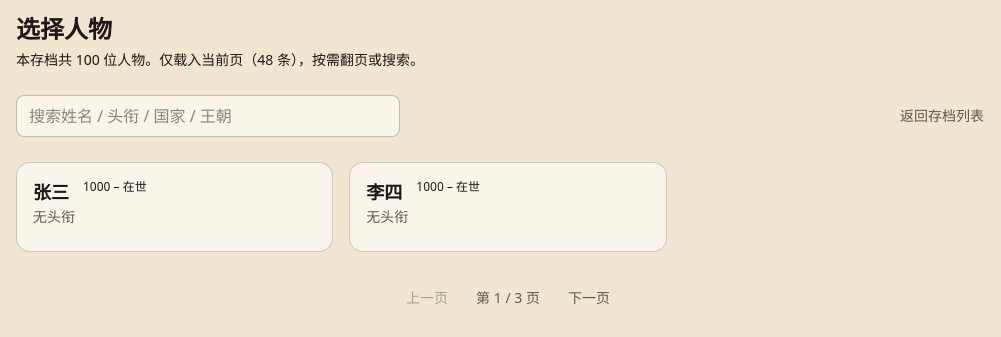
真实存档选择页（按需分页，不存全量） › 首屏仅加载一页，并显示总数与翻页
The width and height of the screenshot is (1001, 337).
Expected: the heading "张三" is shown, 33,179 -> 75,207
Expected: the text "本存档共 100 位人物。仅载入当前页（48 条），按需翻页或搜索。" is shown, 16,50 -> 424,69
Click the button "下一页".
click(589, 298)  # box 552,276 -> 626,320
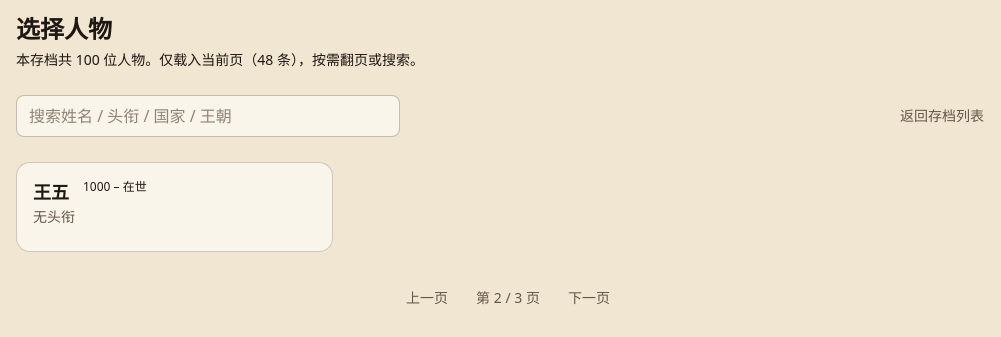
Now the heading "王五" is shown, box 33,179 -> 75,207
